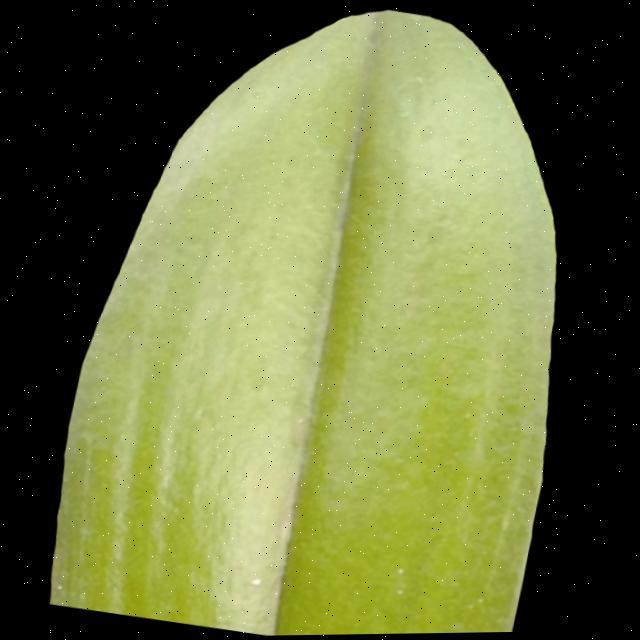mite: (387, 558, 423, 607), (247, 568, 276, 598), (394, 565, 417, 600), (469, 593, 494, 616), (417, 123, 438, 146), (254, 575, 269, 590), (399, 566, 413, 579), (58, 581, 72, 594), (480, 596, 492, 608), (400, 586, 411, 598), (61, 583, 70, 591)
spots: (37, 0, 635, 637)
